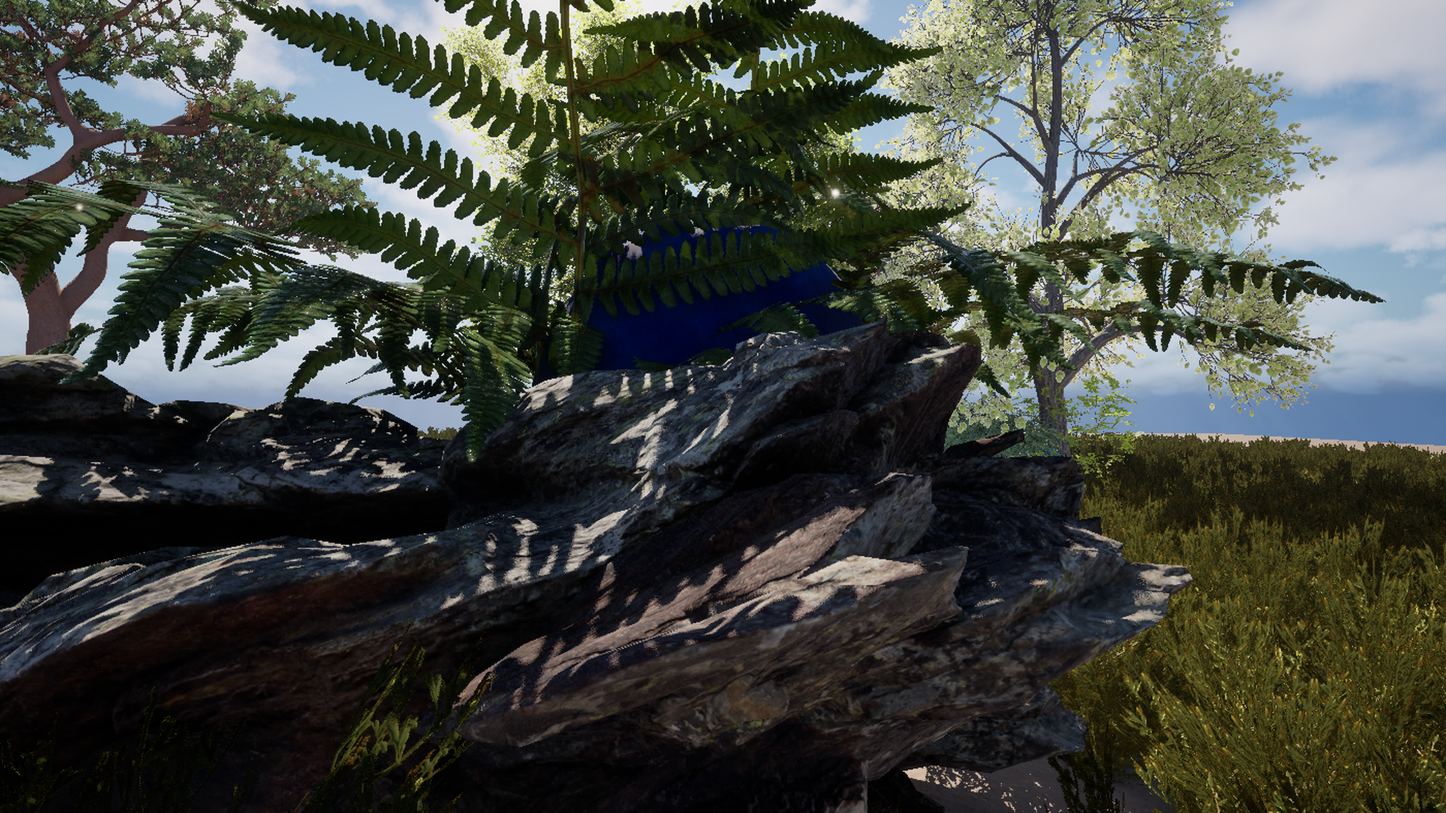Piplup: (334, 111, 1112, 702)
